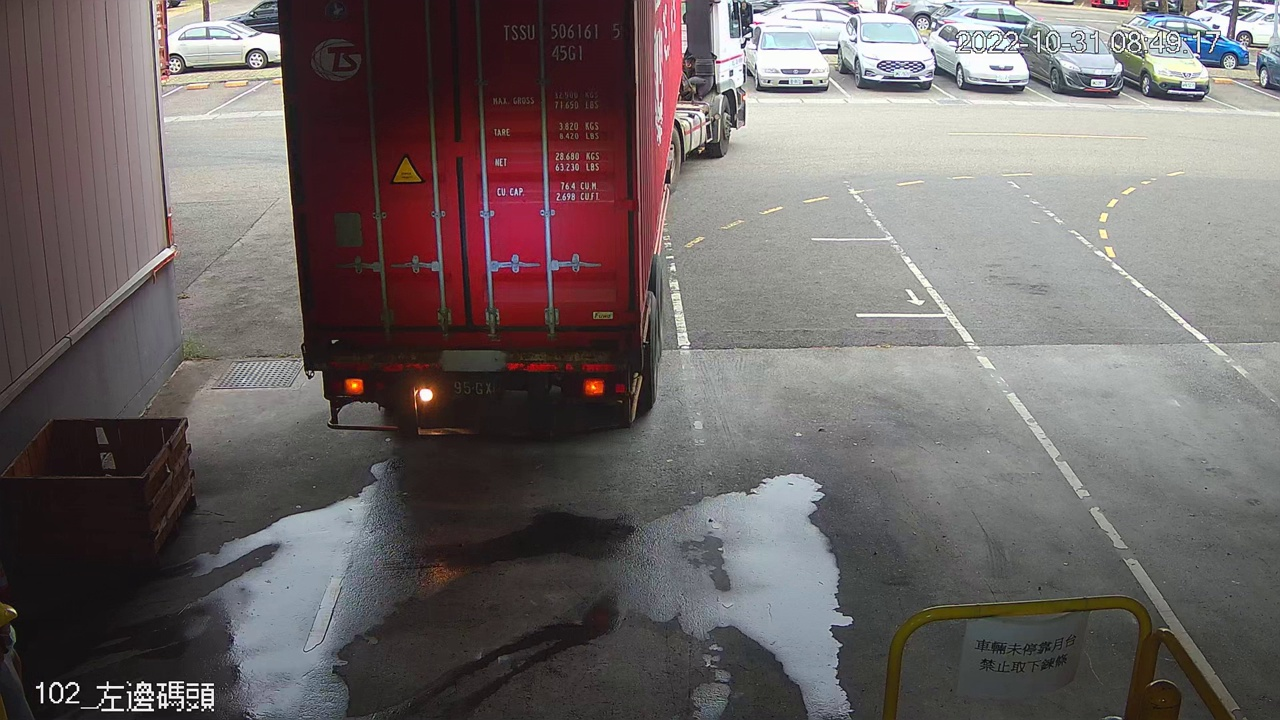container: (495, 17, 628, 65)
